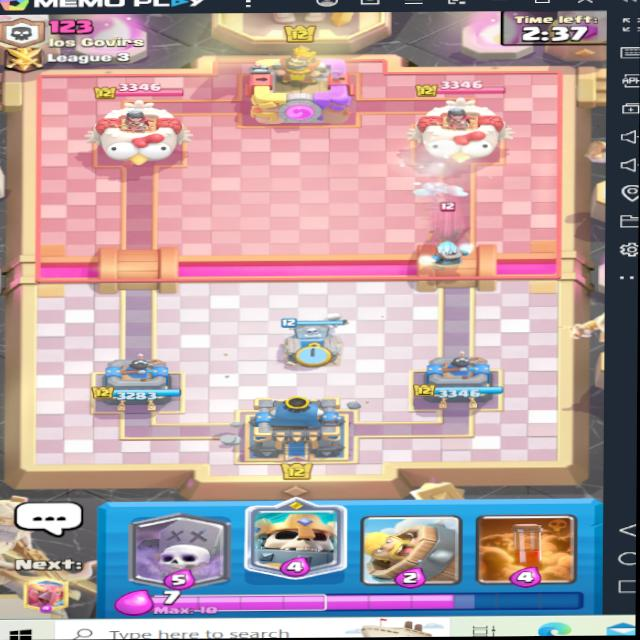bandit: (429, 200, 475, 243)
